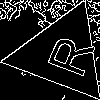R: (37, 29, 96, 80)
